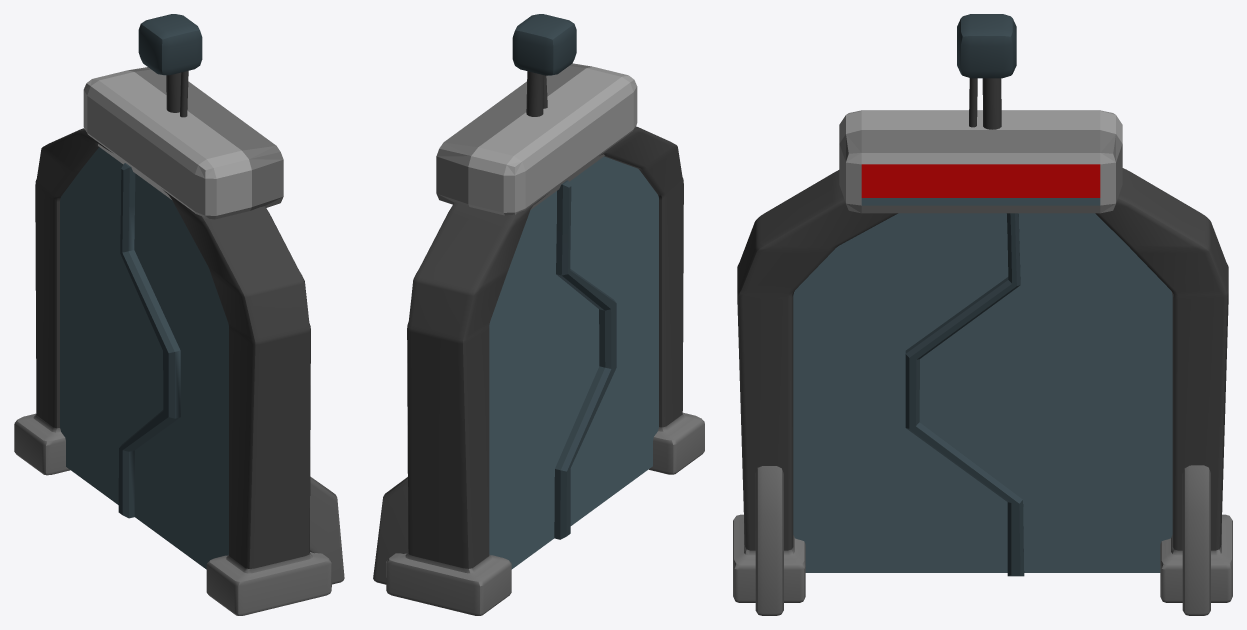
The model's file is door1.fbx.
The picture shows the model from 3 angles, left to right: view 1: azimuth 30°, elevation 25°; view 2: azimuth 150°, elevation 25°; view 3: azimuth 270°, elevation 25°; orthographic projection. The views are drawn at different scales.
Visible parts, largest first — view 1: pCube5, door_rechts, door_links, pCube6, pCube7, pCube9, pCylinder2; view 2: pCube5, door_rechts, door_links, pCube6, pCube7, pCube8, pCylinder2; view 3: door_rechts, door_links, pCube5, pCube6, pCube8, pCube9, pCube7, pCylinder2.
Boxes of the visible parts, x1=… form: pCube5: x1=14, y1=128, x2=331, y2=615; door_rechts: x1=60, y1=147, x2=180, y2=518; door_links: x1=134, y1=173, x2=228, y2=569; pCube6: x1=83, y1=67, x2=283, y2=219; pCube7: x1=138, y1=14, x2=202, y2=75; pCube9: x1=310, y1=476, x2=344, y2=584; pCylinder2: x1=166, y1=72, x2=181, y2=112; pCube5: x1=386, y1=126, x2=704, y2=615; door_rechts: x1=489, y1=180, x2=616, y2=569; door_links: x1=569, y1=156, x2=658, y2=525; pCube6: x1=436, y1=63, x2=637, y2=215; pCube7: x1=512, y1=14, x2=576, y2=75; pCube8: x1=373, y1=477, x2=408, y2=584; pCylinder2: x1=526, y1=71, x2=544, y2=116; door_rechts: x1=905, y1=213, x2=1172, y2=576; door_links: x1=793, y1=213, x2=1008, y2=572; pCube5: x1=733, y1=168, x2=1232, y2=602; pCube6: x1=839, y1=110, x2=1122, y2=213; pCube8: x1=1182, y1=465, x2=1210, y2=615; pCube9: x1=755, y1=466, x2=783, y2=615; pCube7: x1=957, y1=14, x2=1016, y2=78; pCylinder2: x1=982, y1=78, x2=1001, y2=129.
Bounding box in the file's own units: 2.04 × 8.14 × 6.61.
